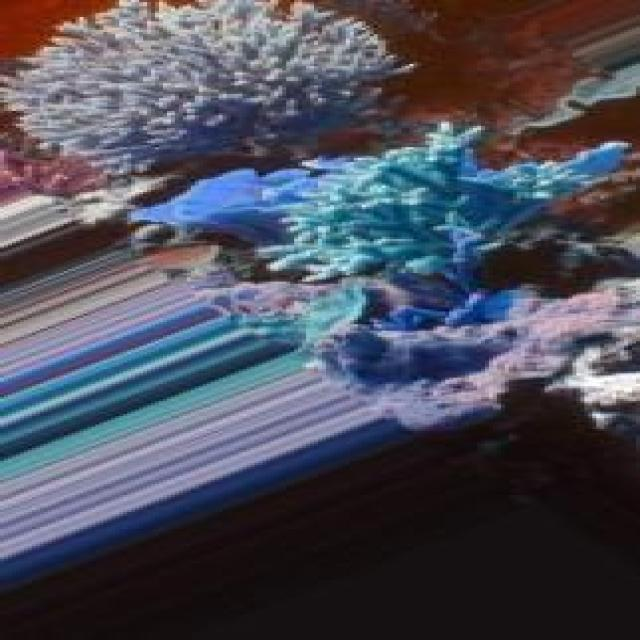Bleached: (21, 3, 406, 187)
Healthy: (192, 146, 625, 287)
